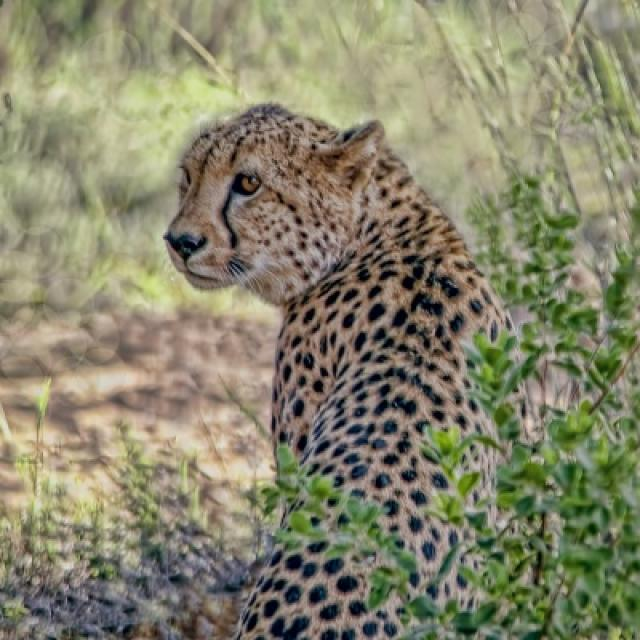Cheetah: (156, 110, 535, 634)
